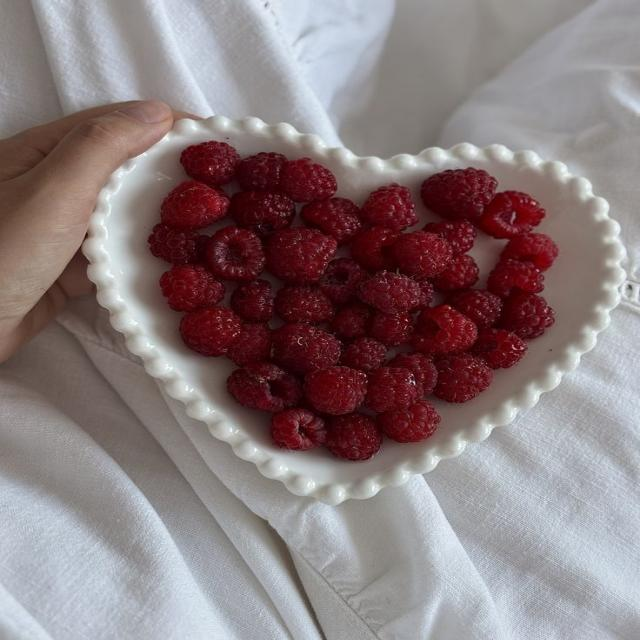raspberry: (266, 228, 337, 284), (421, 168, 497, 220), (227, 363, 302, 411), (273, 323, 341, 373), (206, 226, 265, 281), (160, 181, 229, 228), (478, 191, 546, 238), (412, 305, 477, 354), (230, 191, 295, 238), (160, 265, 225, 311), (434, 353, 493, 403), (180, 308, 241, 356), (305, 366, 366, 414), (301, 198, 361, 244), (394, 231, 453, 277), (377, 400, 440, 442), (498, 292, 554, 339), (326, 413, 382, 460), (180, 141, 239, 185), (359, 272, 421, 313), (363, 184, 418, 230), (280, 158, 337, 202), (367, 367, 422, 412), (148, 224, 208, 264), (271, 408, 326, 450), (319, 258, 367, 306), (470, 329, 527, 369), (275, 286, 333, 324), (501, 233, 558, 271), (351, 227, 400, 271), (487, 260, 543, 298), (387, 353, 437, 395), (447, 290, 501, 328), (226, 322, 271, 367), (236, 153, 287, 190), (231, 280, 274, 322), (423, 220, 477, 253), (433, 254, 479, 292), (330, 301, 373, 339), (368, 311, 413, 346), (340, 337, 386, 371), (414, 278, 433, 309)
